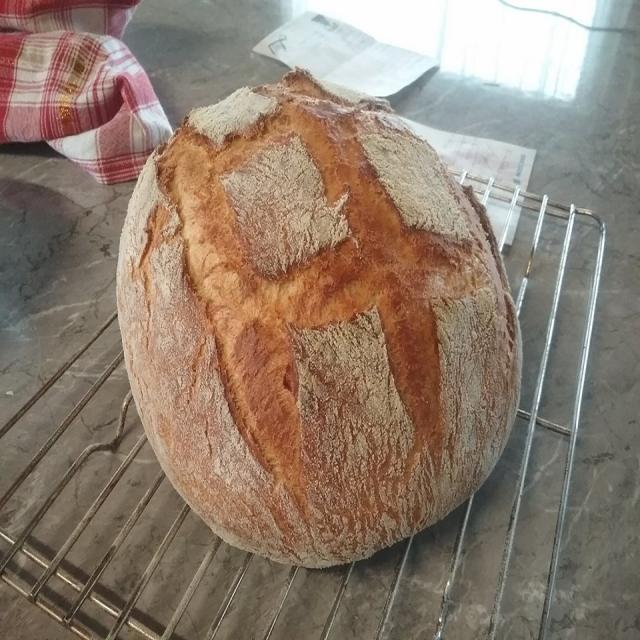Maltese-Bread: (117, 69, 522, 568)
